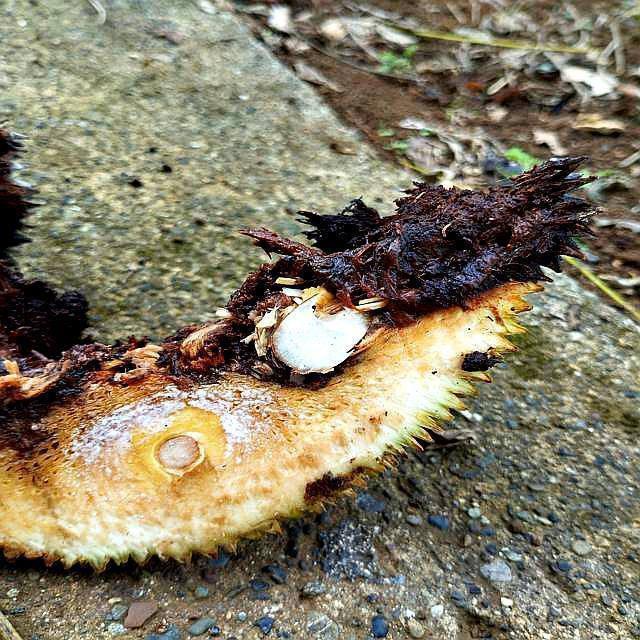Biodegradable: (13, 171, 591, 557)
